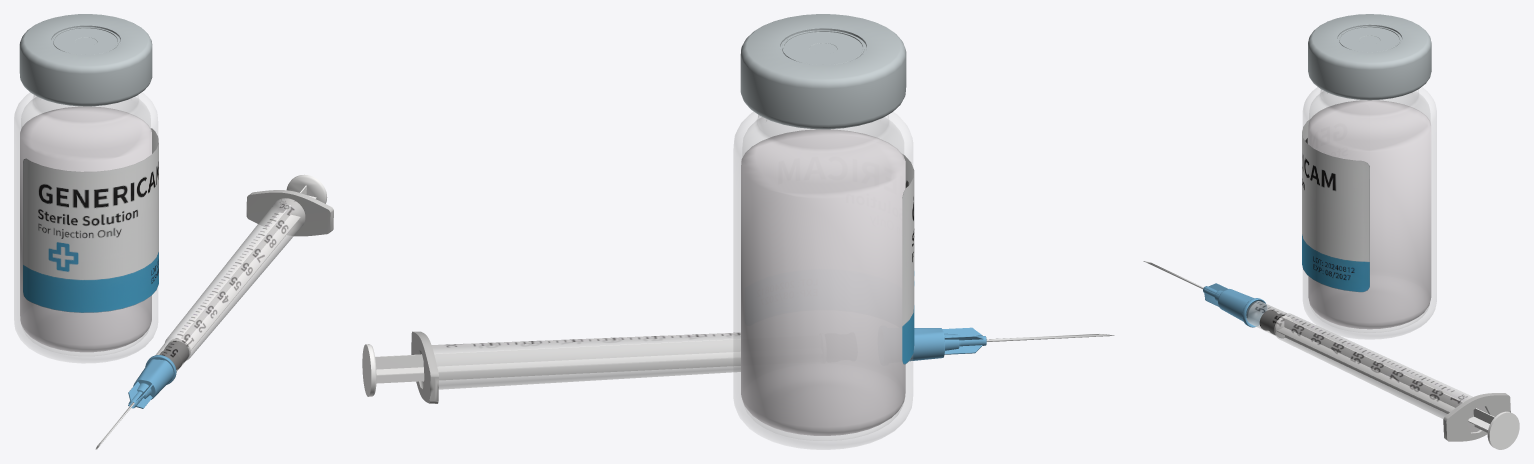
File: vial.glb
3 renders of one model, left to right at view 1: azimuth 30°, elevation 25°; view 2: azimuth 150°, elevation 25°; view 3: azimuth 270°, elevation 25°, orthographic. The views are drawn at different scales.
Visible parts, largest first — view 1: label, Bottle, liquid, Cap, Cylinder.001, D7014BO2, D7014BOT.001, D7014NE2, D7014BO1; view 2: Bottle, liquid, Cap, Cylinder.001, D7014BO2, label, D7014NE2, D7014BOT.001; view 3: Bottle, liquid, Cap, label, Cylinder.001, D7014BO2, D7014BOT.001, D7014NE2.
Part boxes in pixels (<box>): label: <box>23,128,158,312</box>; Bottle: <box>14,93,157,363</box>; liquid: <box>20,106,151,352</box>; Cap: <box>19,14,152,106</box>; Cylinder.001: <box>155,198,305,371</box>; D7014BO2: <box>168,174,327,358</box>; D7014BOT.001: <box>246,190,333,236</box>; D7014NE2: <box>128,355,176,408</box>; D7014BO1: <box>159,340,189,369</box>; Bottle: <box>733,112,912,449</box>; liquid: <box>741,129,905,435</box>; Cap: <box>740,14,906,129</box>; Cylinder.001: <box>431,332,740,389</box>; D7014BO2: <box>362,339,740,396</box>; label: <box>902,154,914,364</box>; D7014NE2: <box>909,328,986,361</box>; D7014BOT.001: <box>411,331,438,403</box>; Bottle: <box>1303,87,1436,339</box>; liquid: <box>1308,100,1431,329</box>; Cap: <box>1308,14,1431,100</box>; label: <box>1302,119,1369,292</box>; Cylinder.001: <box>1246,301,1472,418</box>; D7014BO2: <box>1274,315,1519,449</box>; D7014BOT.001: <box>1443,393,1510,441</box>; D7014NE2: <box>1203,286,1266,327</box>.
Bounding box in the file's own units: 0.6745 × 0.4679 × 0.5658.
10 materials, 2 textured.
